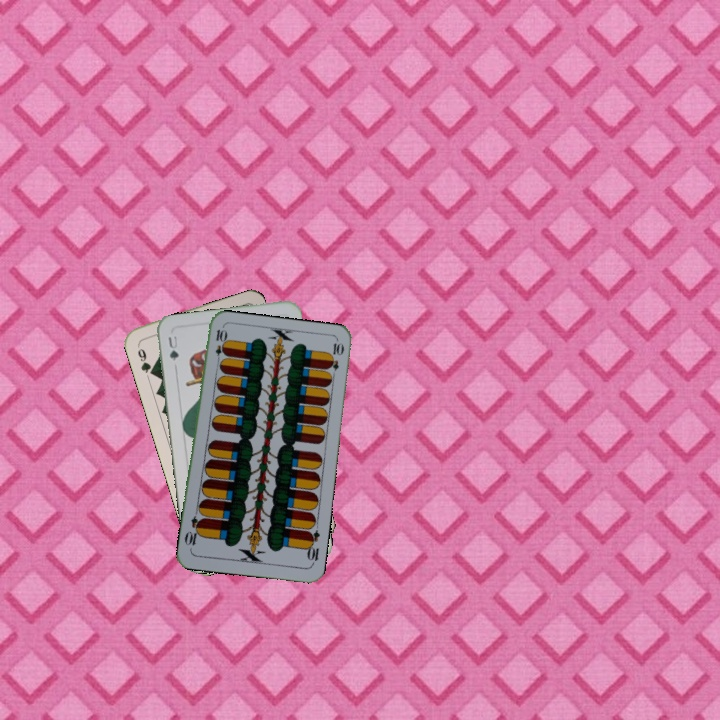E10: (302, 527, 322, 567), (211, 325, 227, 366)
G9: (133, 340, 157, 378)
GU: (164, 332, 181, 370)
